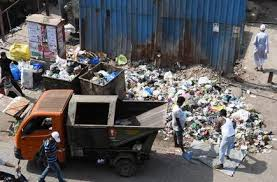garbage: (127, 64, 212, 95), (187, 75, 217, 145), (233, 106, 275, 152), (50, 58, 120, 83)
